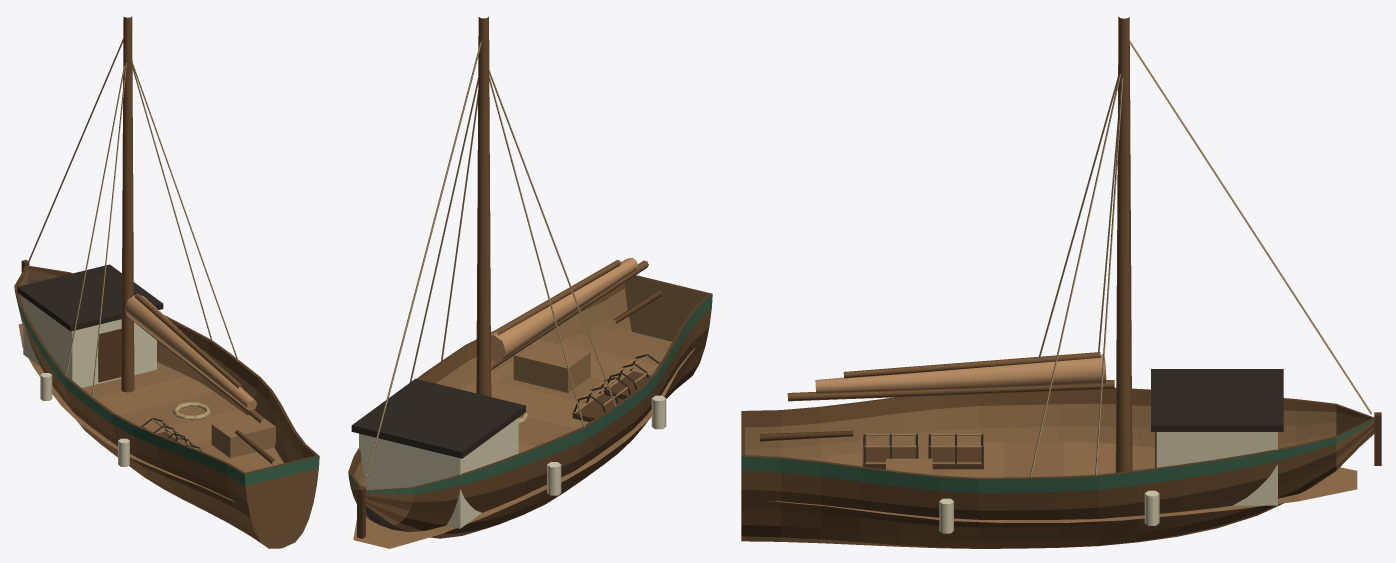
File: fishing_boat.glb
3 renders of one model, left to right at view 1: azimuth 30°, elevation 25°; view 2: azimuth 150°, elevation 25°; view 3: azimuth 270°, elevation 25°, orthographic. The views are drawn at different scales.
Visible parts, largest first — view 1: Hull; view 2: Hull; view 3: Hull.
Part boxes in pixels (x1,y1,x2,y2): Hull: (14,16,319,548); Hull: (348,16,712,548); Hull: (741,16,1381,548).
Size of the model in its own units: 2.45 by 6.15 by 6.86.
Materials: 1 (1 with a texture image).
